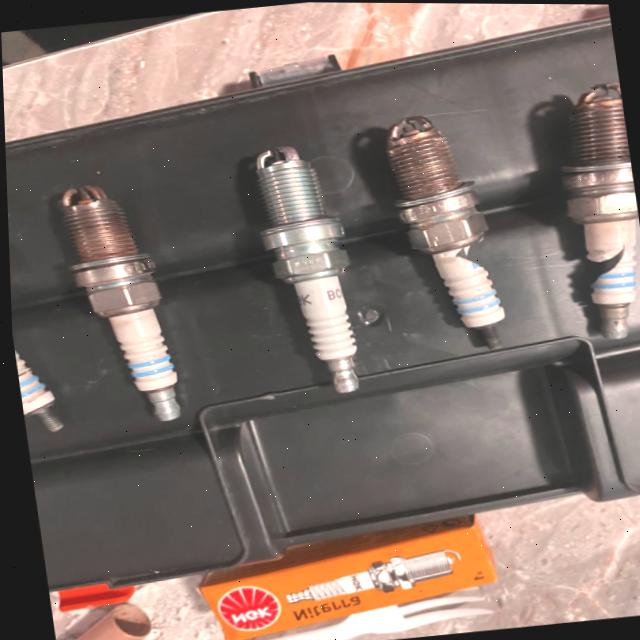damaged_spark-plug: (370, 115, 524, 365), (538, 76, 640, 344)
spark-plug: (34, 173, 196, 432), (245, 130, 372, 413)
